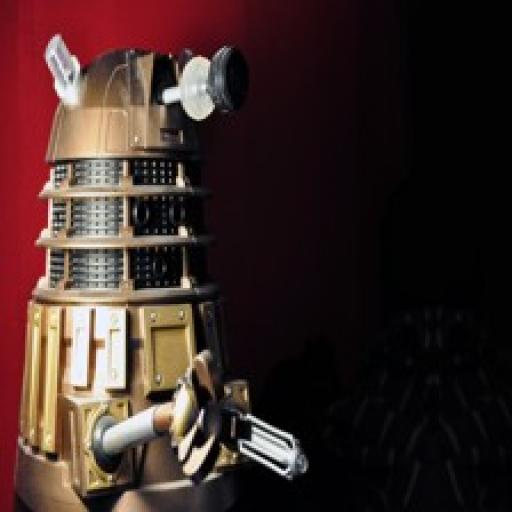dalek: (12, 24, 341, 500)
